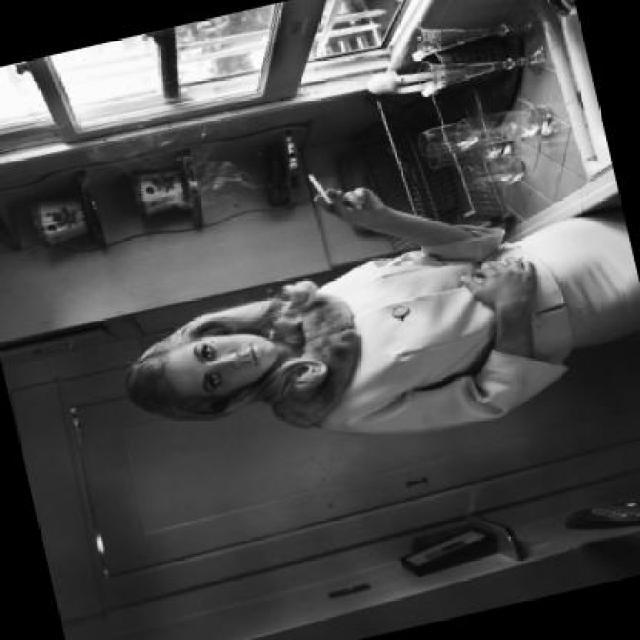smoke: (304, 166, 334, 209)
